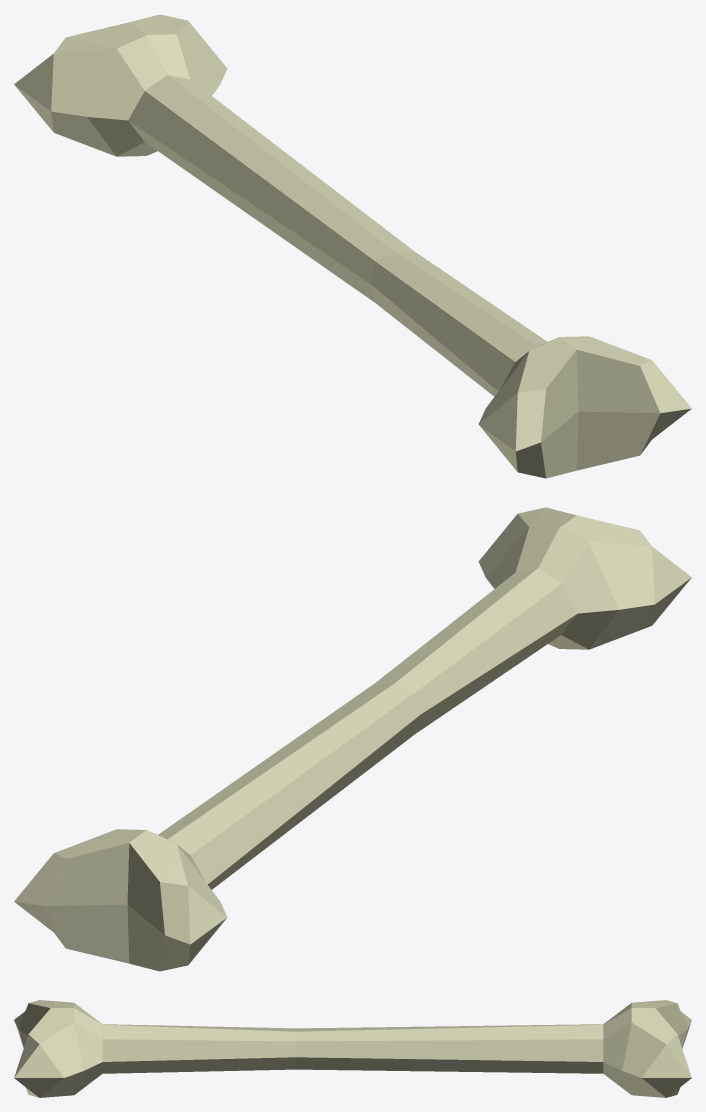
File: Bone.fbx
The picture shows the model from 3 angles, top to bottom: view 1: azimuth 30°, elevation 25°; view 2: azimuth 150°, elevation 25°; view 3: azimuth 270°, elevation 25°; orthographic projection. The views are drawn at different scales.
Parts seen in each view (by area): view 1: Bone; view 2: Bone; view 3: Bone.
Boxes of the visible parts, <box> form: Bone: <box>14,14,691,478</box>; Bone: <box>14,507,691,971</box>; Bone: <box>14,1000,691,1097</box>.
Size of the model in its own units: 3.96 by 2.59 by 19.51.
